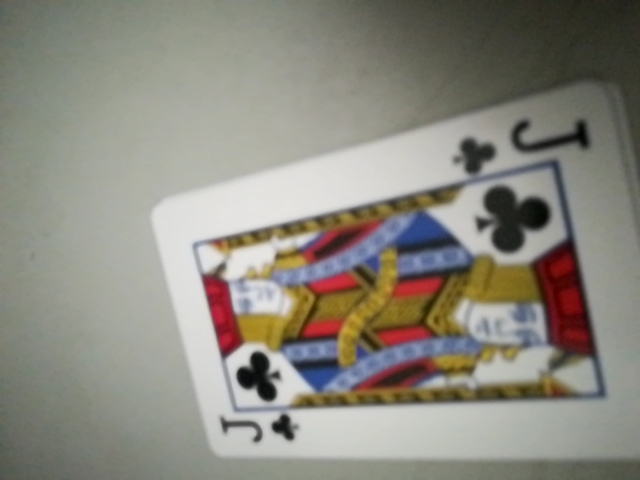mh j: (447, 107, 597, 179), (212, 408, 296, 455)
